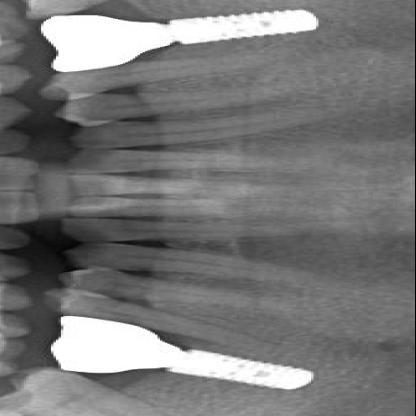ITI: (161, 343, 328, 391), (160, 5, 326, 47)
